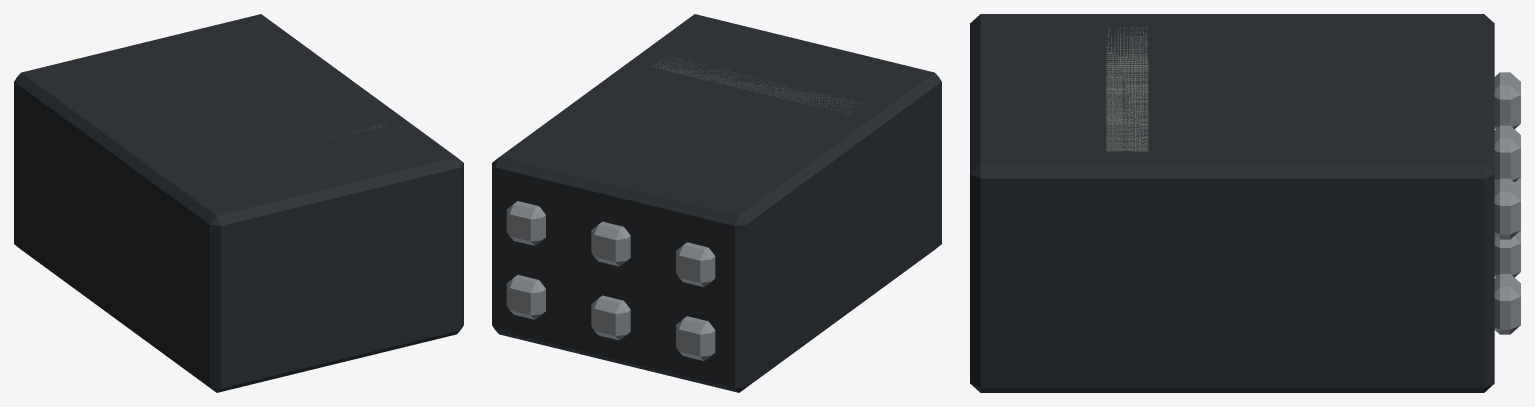
File: Utility_Smoke.fbx
The picture shows the model from 3 angles, left to right: view 1: azimuth 30°, elevation 25°; view 2: azimuth 150°, elevation 25°; view 3: azimuth 270°, elevation 25°; orthographic projection. The views are drawn at different scales.
Visible parts, largest first — view 1: Utility_Smoke; view 2: Utility_Smoke; view 3: Utility_Smoke.
Part boxes in pixels (x1,y1,x2,y2): Utility_Smoke: [14, 14, 463, 392]; Utility_Smoke: [492, 14, 941, 392]; Utility_Smoke: [970, 14, 1520, 392].
Bounding box in the file's own units: 0.36 × 0.24 × 0.525.
